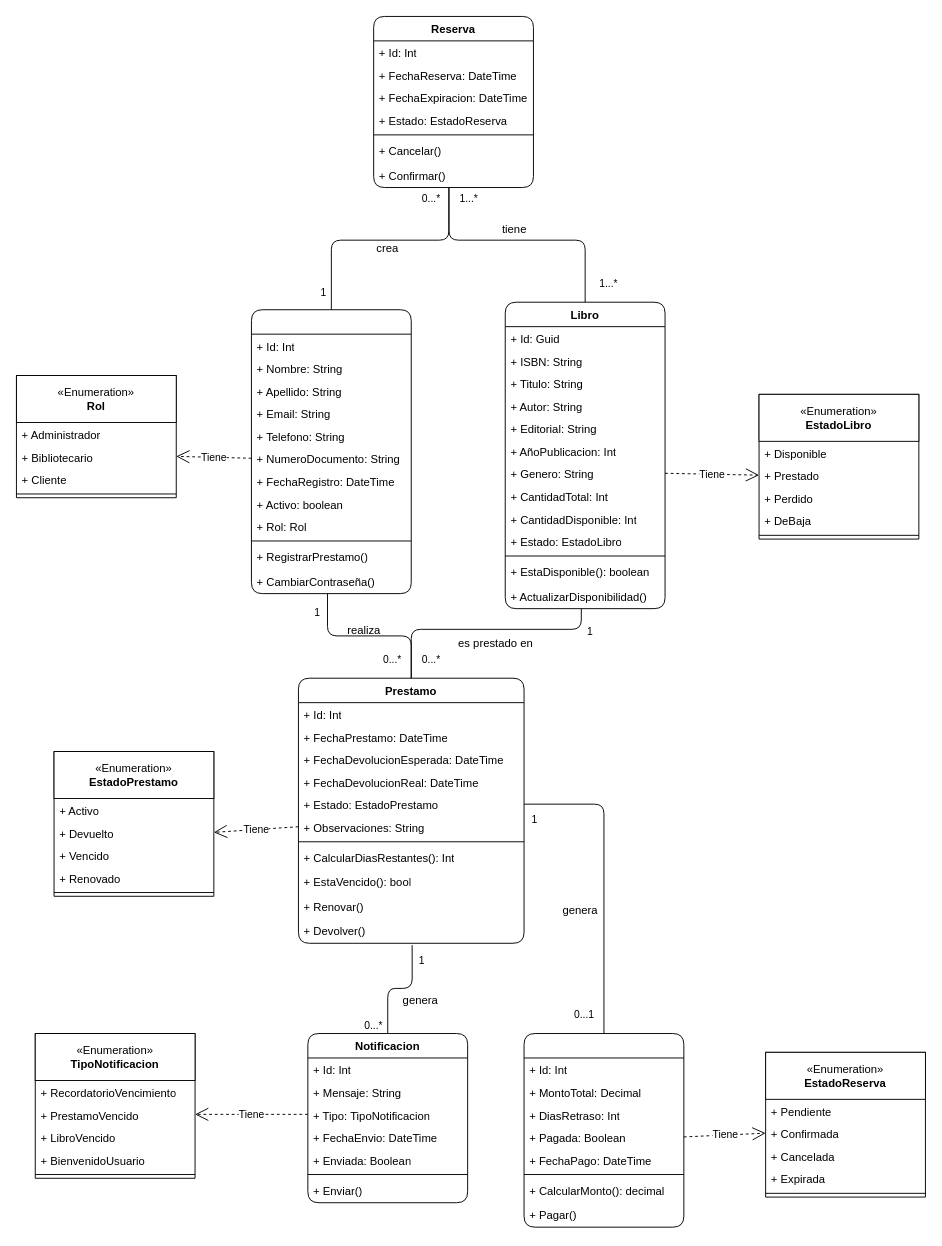
This 942x1246 diagram has some shape labels left out. Here are the shapes that lost their labels. From the top down, the box of each, then its label:
(251, 309, 411, 594): Usuario
(523, 1033, 684, 1227): Multa
